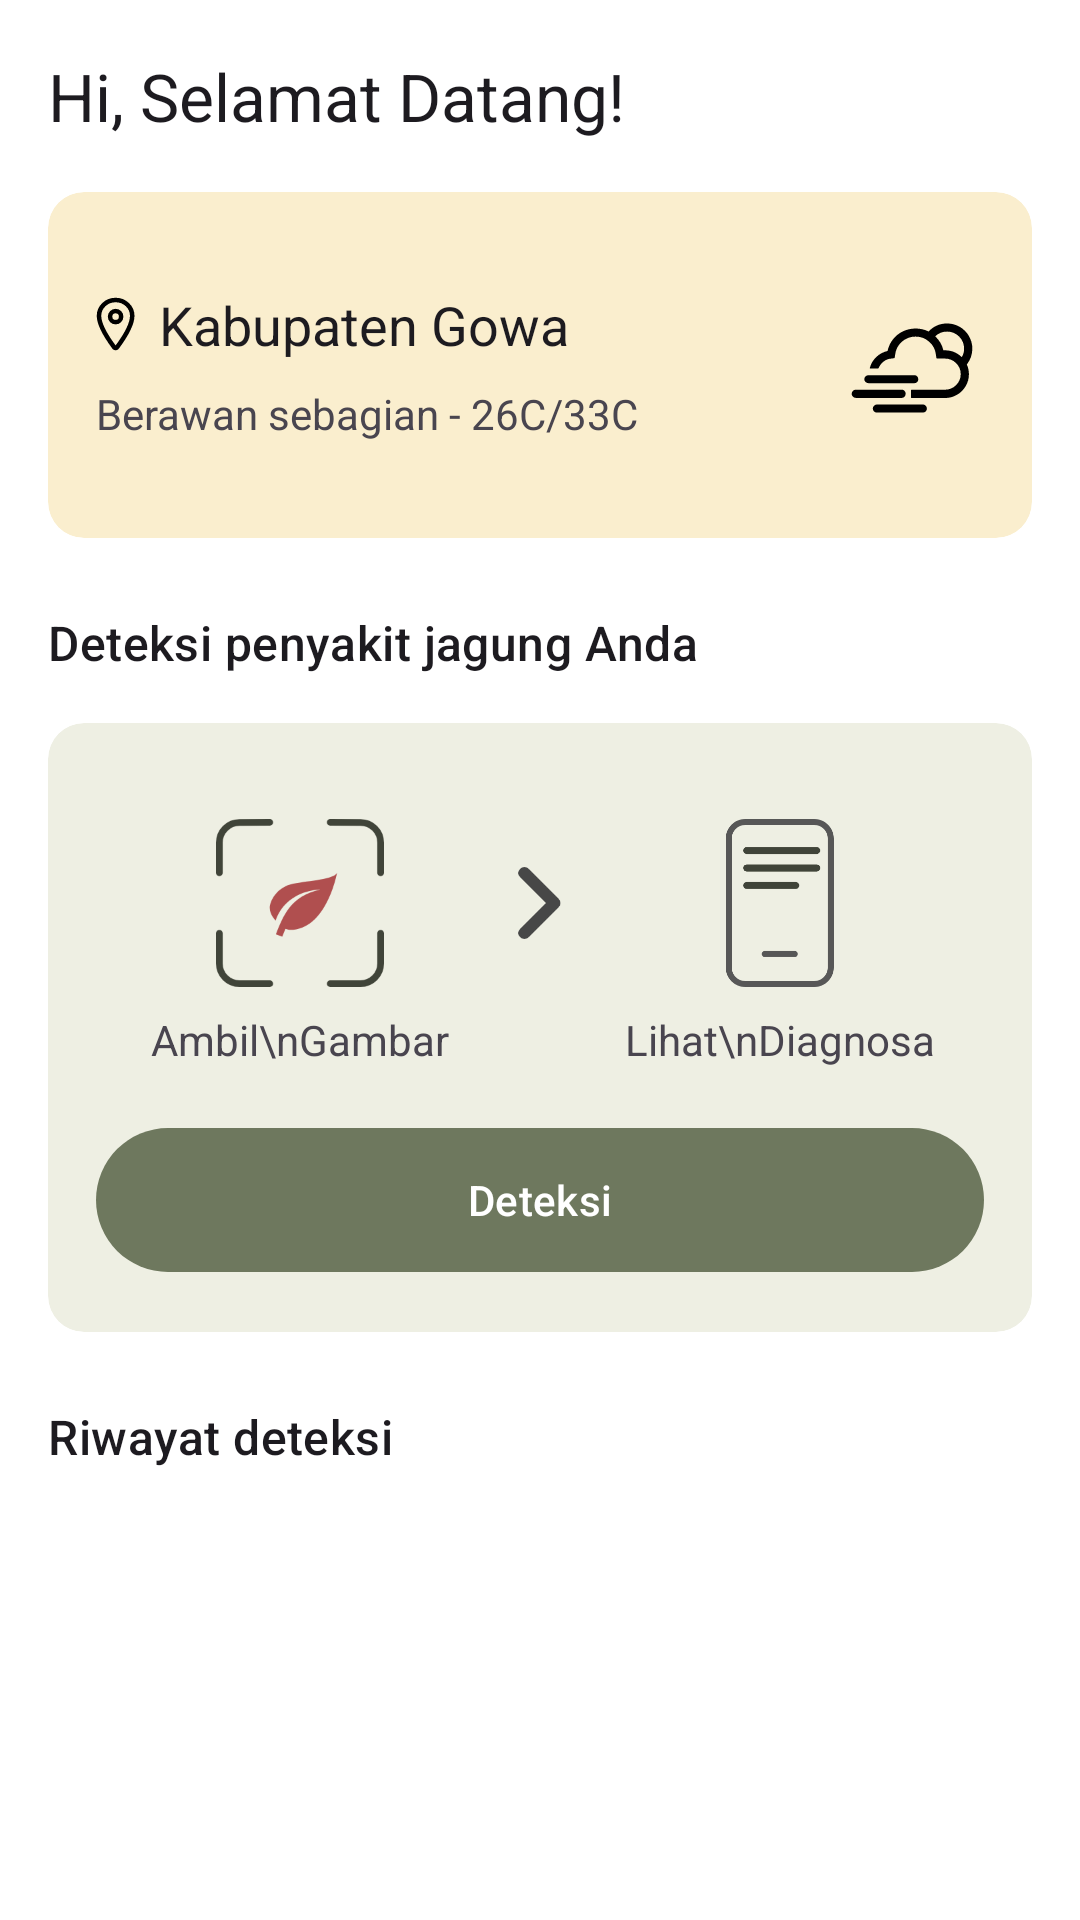

Where icons sit on this 1080x1920 app screen, as region(x1, y1, x2, y2):
arrow right: region(518, 867, 561, 939)
cloud windy: region(851, 323, 973, 413)
